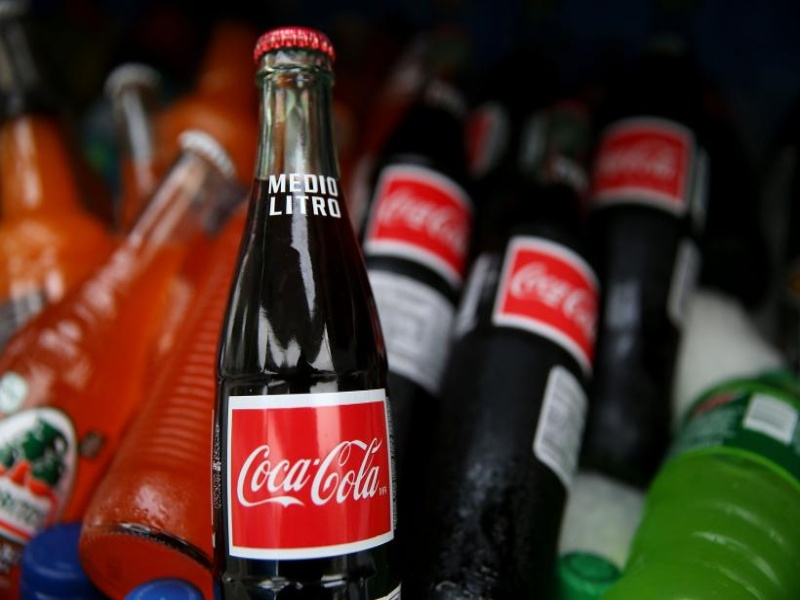Glass bottle: (195, 20, 433, 595), (3, 108, 244, 567)
